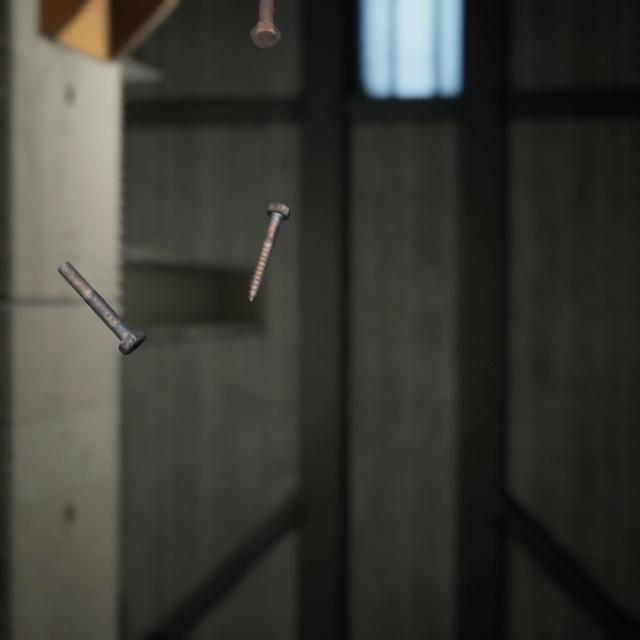bolt: (53, 239, 150, 342), (243, 181, 294, 289), (245, 0, 285, 46)
